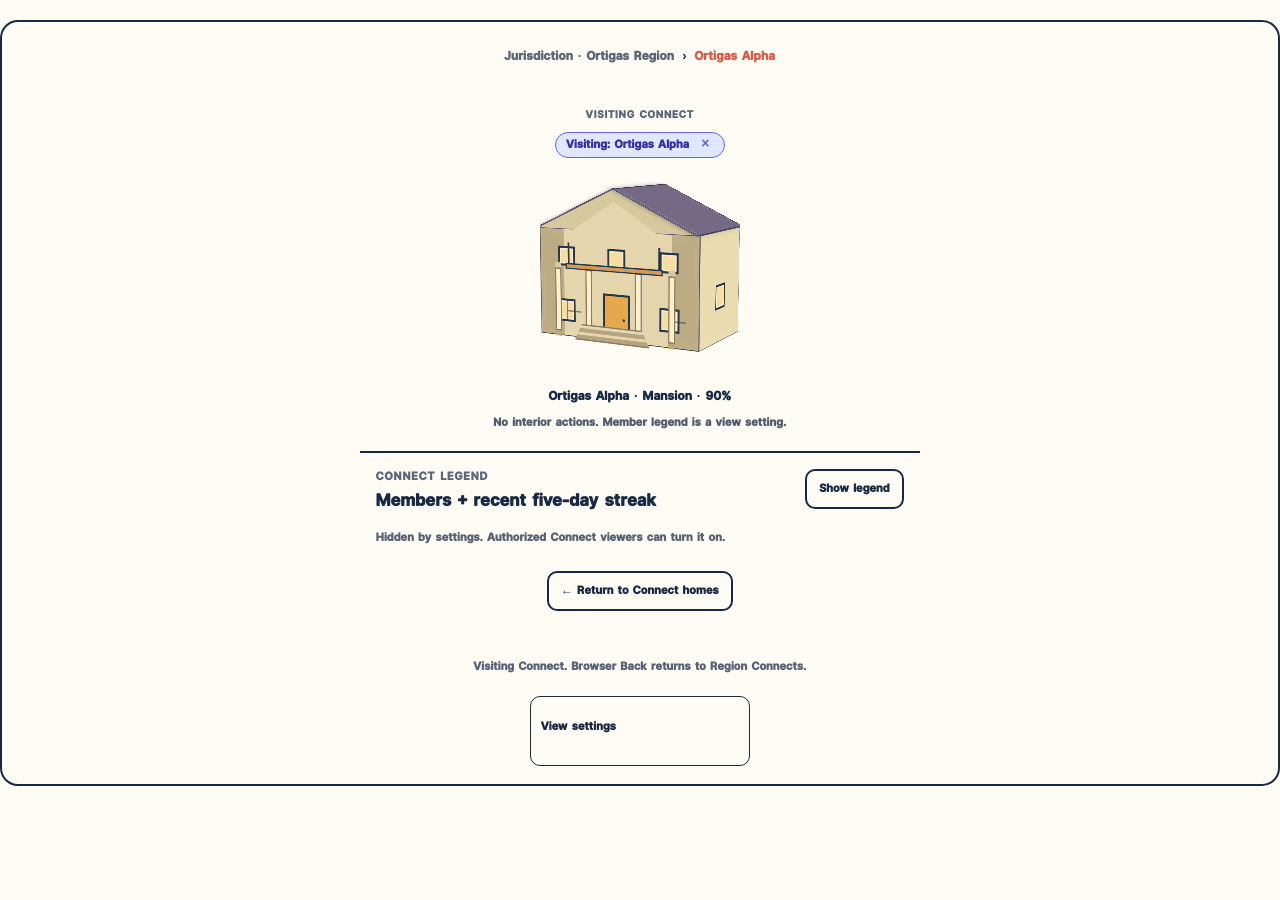
Test: LadderTownView -- visiting a Connect home › exits the visit via the chip's own action, back to Region Connects
Click the button named "Stop visiting this Connect": point(705, 145) [697,138,714,152]
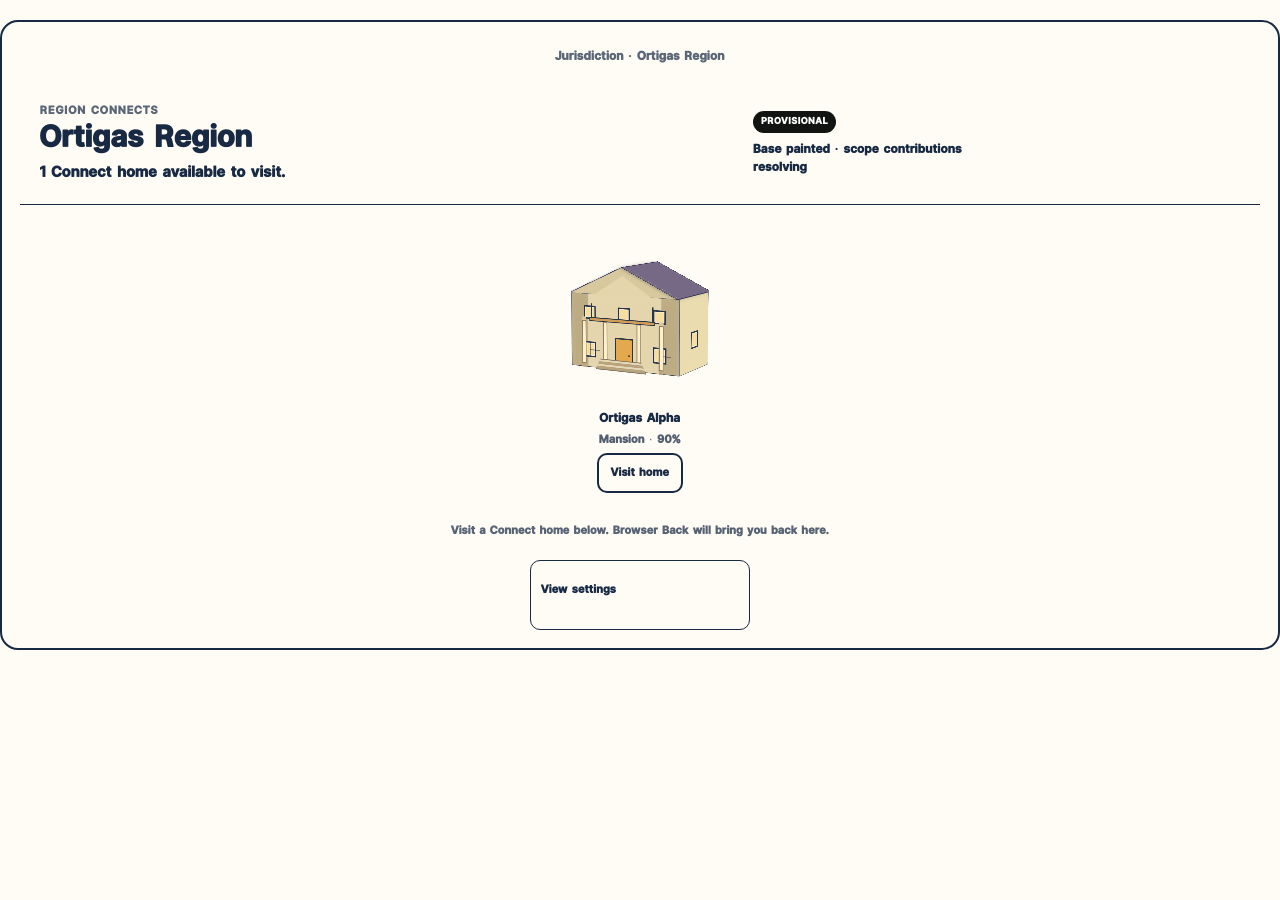
Check: the text "Visiting Connect" is gone
Check: the text "Region Connects" is shown, box [40,105,159,117]
